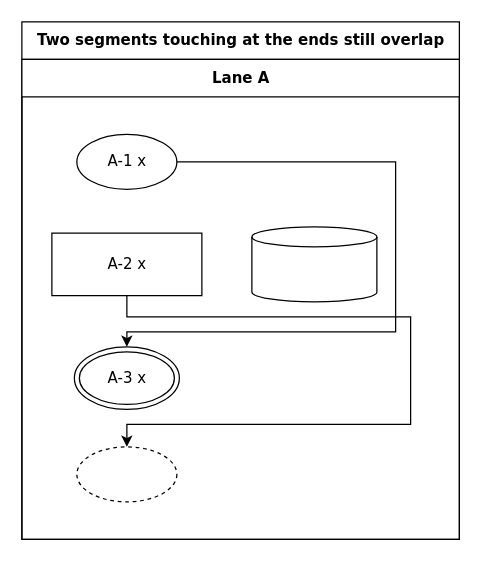
Some shapes in this 481 by 561 pixel diagram are drawn without their labels. The shapes that lost their labels are listed below. From the top down, each one's box as (x1, y1, x2, y2) in pixels, then its label:
(251, 226, 377, 302): d0
(76, 446, 177, 502): A-4 x
